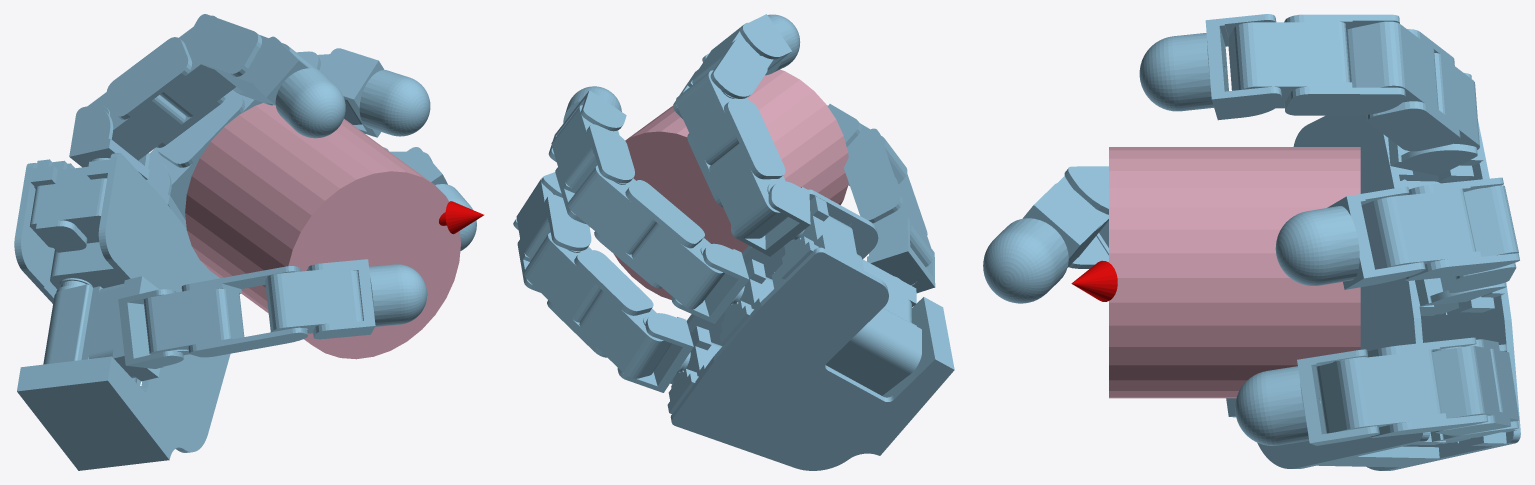
3 views of the same model, side by side, from view 1: azimuth 30°, elevation 25°; view 2: azimuth 150°, elevation 25°; view 3: azimuth 270°, elevation 25° (orthographic). The views are drawn at different scales.
Visible parts, largest first — view 1: world, cylinder_medium.stl; view 2: world, cylinder_medium.stl; view 3: world, cylinder_medium.stl.
Part boxes in pixels (<box>): world: <box>14,14,483,470</box>; cylinder_medium.stl: <box>185,103,460,359</box>; world: <box>513,14,954,470</box>; cylinder_medium.stl: <box>614,69,848,299</box>; world: <box>983,14,1520,470</box>; cylinder_medium.stl: <box>1109,147,1360,398</box>.
Bounding box in the file's own units: 0.207 × 0.1851 × 0.1709.
